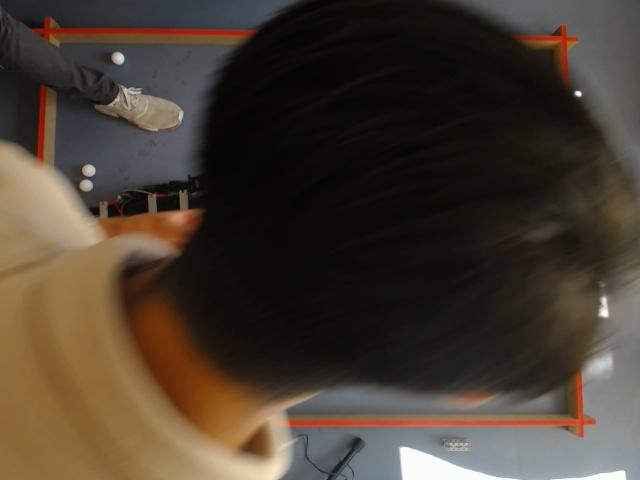white: (110, 50, 124, 66), (79, 179, 93, 192), (82, 164, 96, 176)
